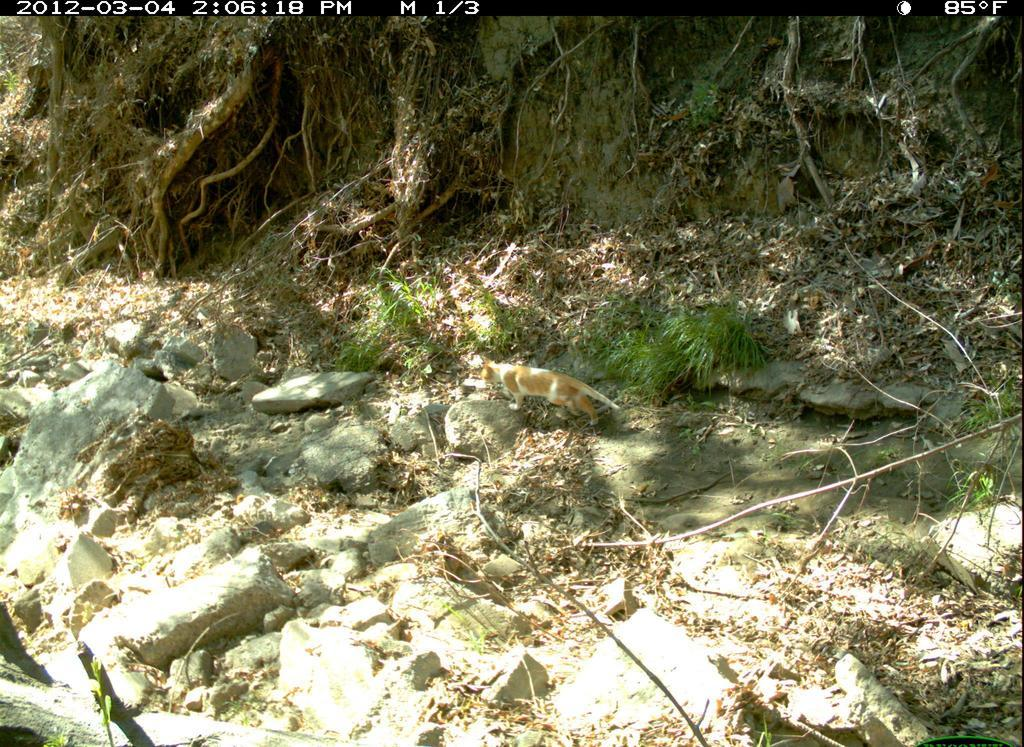cat: (474, 351, 629, 434)
